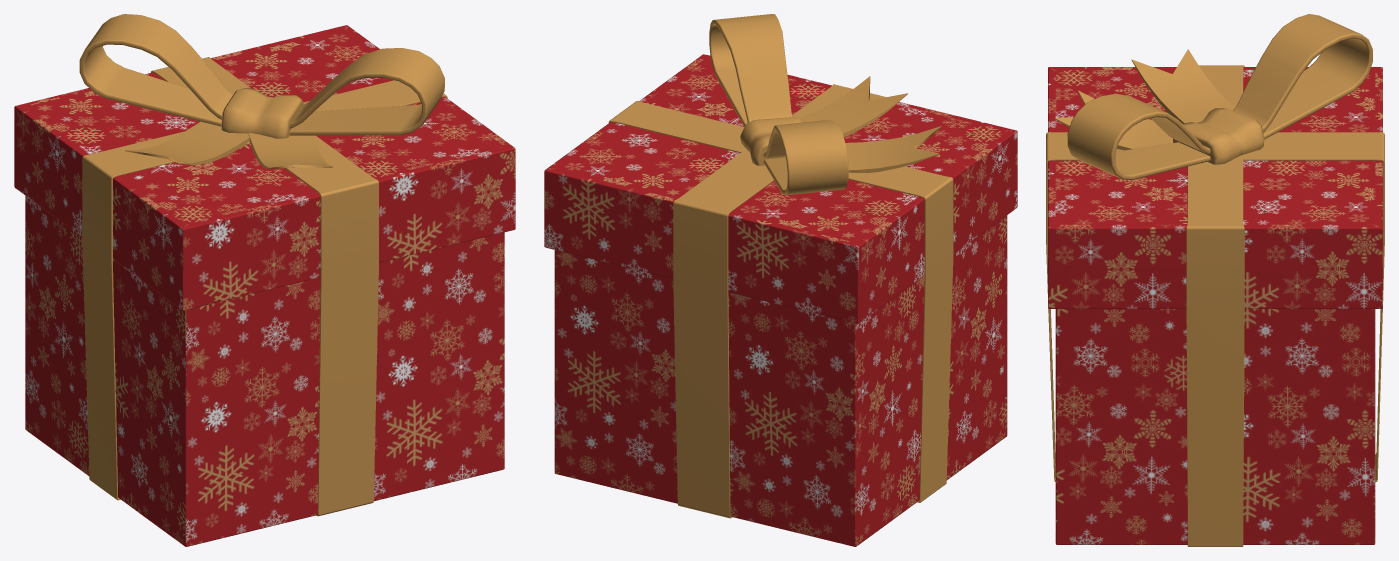
File: Giftbox.fbx
The picture shows the model from 3 angles, left to right: view 1: azimuth 30°, elevation 25°; view 2: azimuth 150°, elevation 25°; view 3: azimuth 270°, elevation 25°; orthographic projection. The views are drawn at different scales.
Parts seen in each view (by area): view 1: Box; view 2: Box; view 3: Box.
Part boxes in pixels (x1,y1,x2,y2): Box: [14, 14, 515, 546]; Box: [544, 14, 1017, 546]; Box: [1046, 14, 1384, 546].
Size of the model in its own units: 17.11 by 19.71 by 15.04.
Materials: 1 (1 with a texture image).
